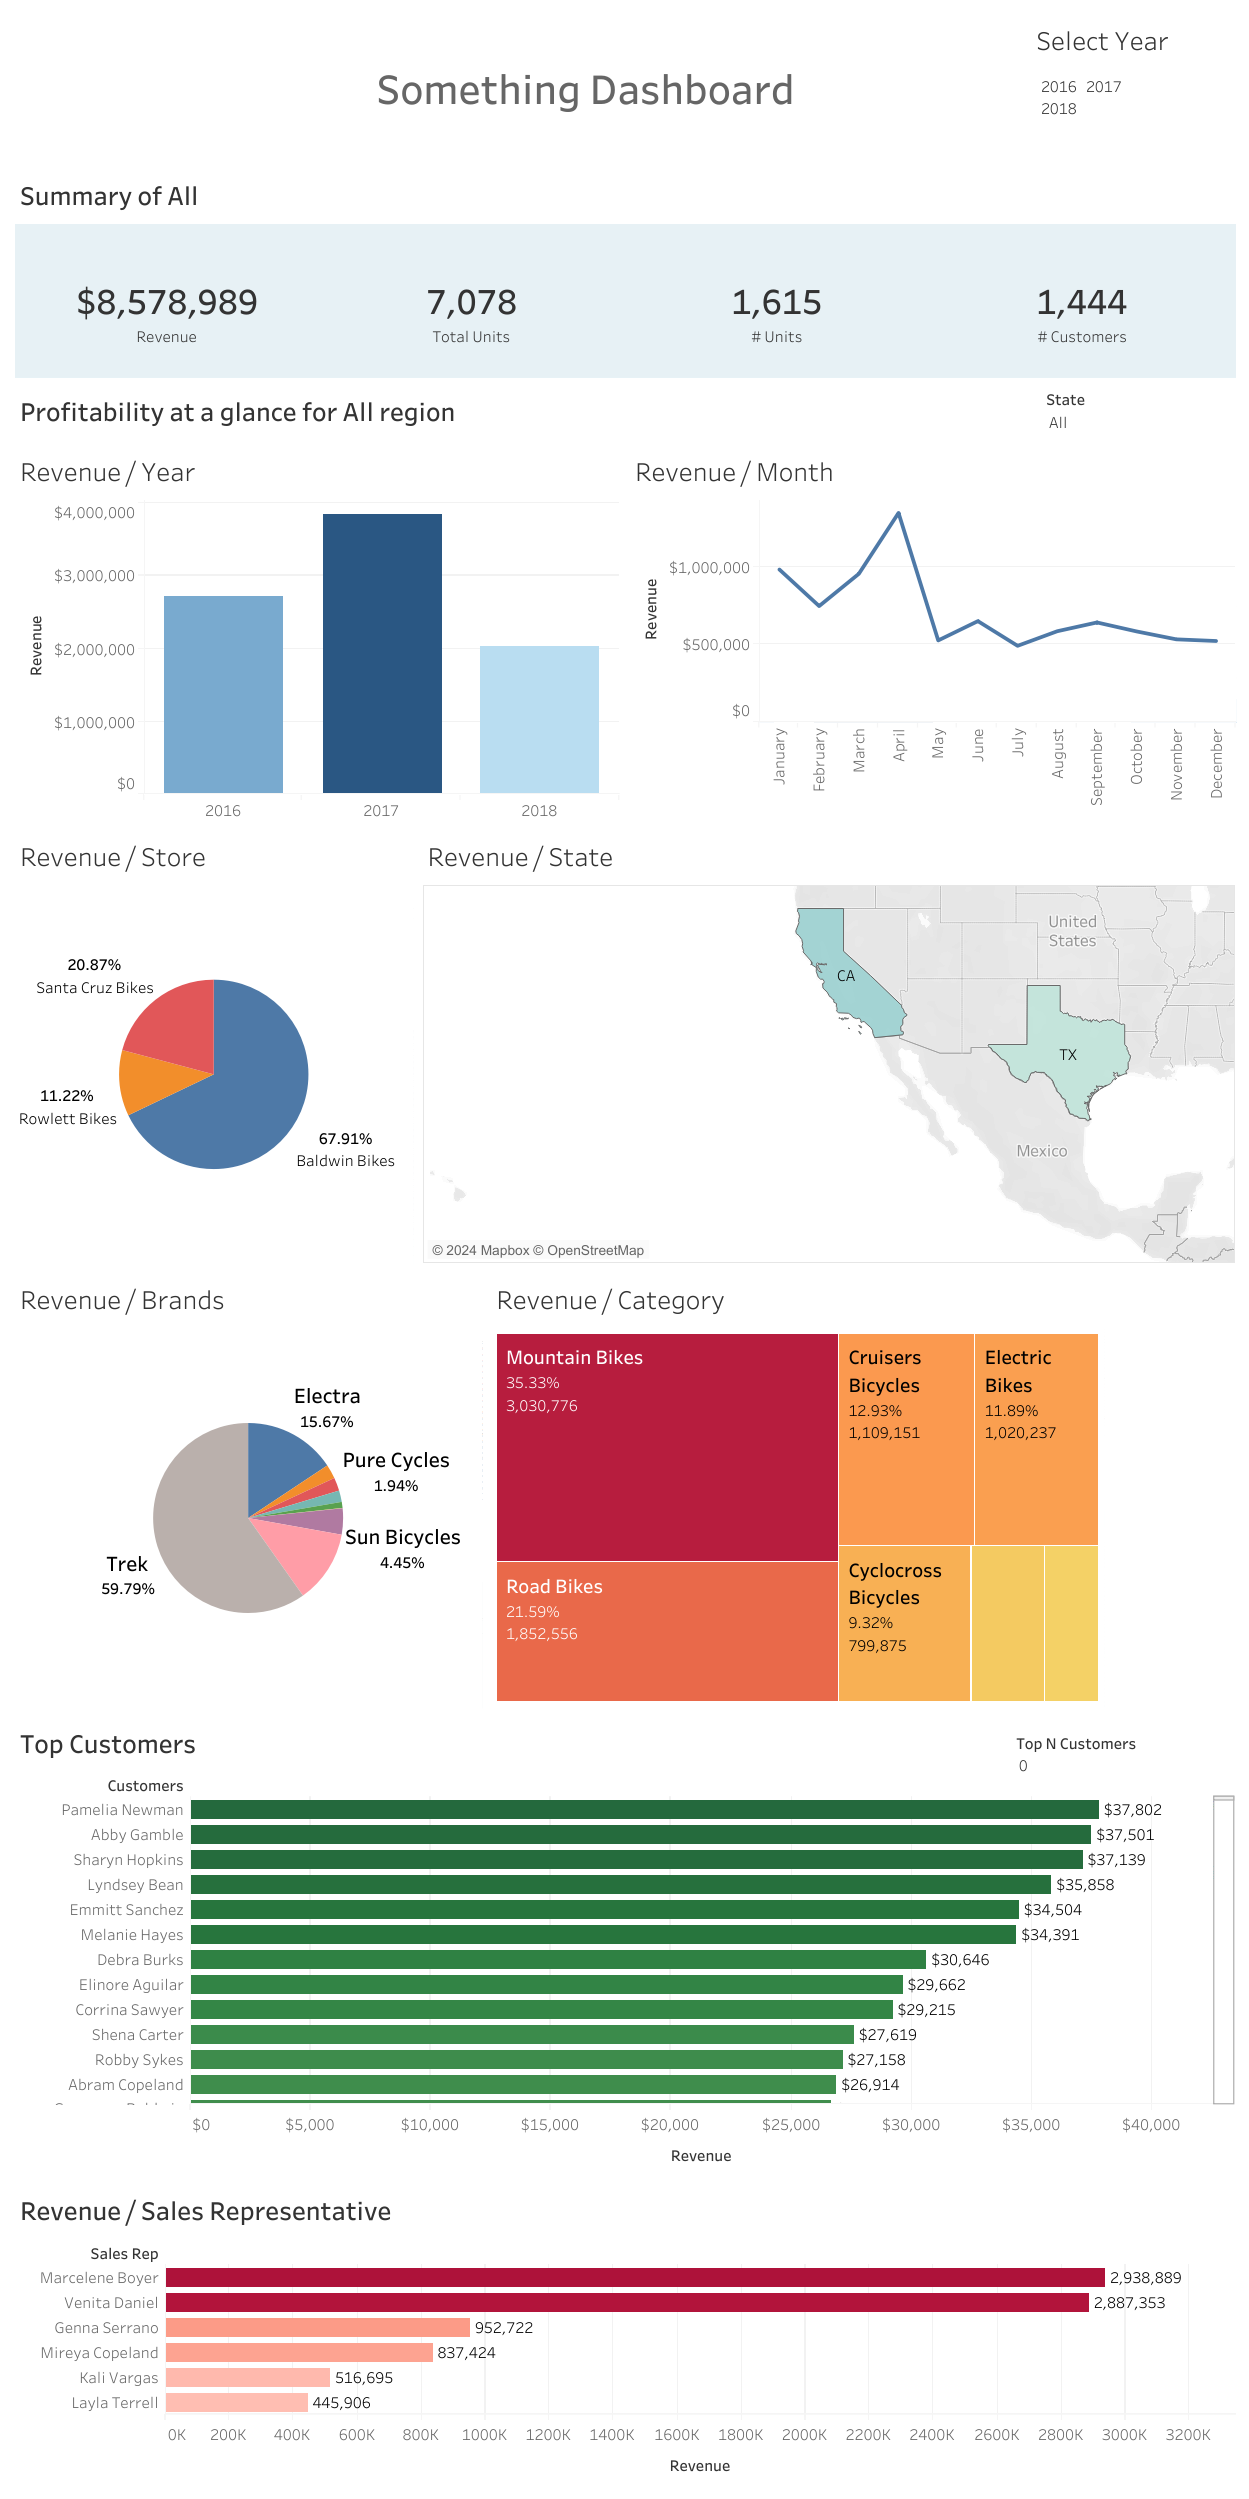

This screenshot's page, from the dashboard's own definition file:
{"tool":"tableau","page":{"name":"Dashboard 1","canvas":[1000,2000],"ordinal":0},"visuals":[{"type":"image","box":[8,8,108,124]},{"type":"text","box":[116,8,705,124]},{"type":"worksheet","title":"Year","mark":"Automatic","box":[821,8,171,124]},{"type":"worksheet","title":"Banner","mark":"Automatic","box":[8,132,984,173]},{"type":"worksheet","title":"Title","mark":"Automatic","box":[8,305,825,48]},{"type":"filter","title":"Revenue / State","param":"[federated.0t6oqtp0fimy9514le0gv0iwdo3l].[none:state:nk]","box":[833,305,159,48]},{"type":"worksheet","title":"Revenue / Year","mark":"Bar","rows":["revenue"],"cols":["order_date"],"box":[8,353,492,308]},{"type":"worksheet","title":"Revenue / Month","mark":"Automatic","rows":["revenue"],"cols":["order_date"],"box":[500,353,491.9,308]},{"type":"worksheet","title":"Revenue / Store","mark":"Pie","box":[8,661,326,354]},{"type":"worksheet","title":"Revenue / State","mark":"Automatic","box":[334,661,658,354]},{"type":"worksheet","title":"Revenue / Brands","mark":"Pie","box":[8,1015,381,355]},{"type":"worksheet","title":"Revenue / Category","mark":"Automatic","box":[389,1015,603,355]},{"type":"worksheet","title":"Top Customers","mark":"Automatic","rows":["customers"],"cols":["revenue"],"box":[8,1370,984,374]},{"type":"parameter","param":"[Parameters].[Customers Parameter]","box":[813,1384,160,45]},{"type":"worksheet","title":"Revenue / Sales Representative","mark":"Automatic","rows":["sales_rep"],"cols":["revenue"],"box":[8,1744,984,248]}]}

Visuals, with their boxes in screenshot pixels (x1, y1, x2, y2), scaled from the page's 1000x2000 canvas onto the 1249x2499 screenshot:
image: 10:10:145:165
text: 145:10:1025:165
"Year" worksheet: 1025:10:1239:165
"Banner" worksheet: 10:165:1239:381
"Title" worksheet: 10:381:1040:441
"Revenue / State" filter: 1040:381:1239:441
"Revenue / Year" worksheet (Bar marks): 10:441:624:826
"Revenue / Month" worksheet: 624:441:1239:826
"Revenue / Store" worksheet (Pie marks): 10:826:417:1268
"Revenue / State" worksheet: 417:826:1239:1268
"Revenue / Brands" worksheet (Pie marks): 10:1268:486:1712
"Revenue / Category" worksheet: 486:1268:1239:1712
"Top Customers" worksheet: 10:1712:1239:2179
parameter: 1015:1729:1215:1786
"Revenue / Sales Representative" worksheet: 10:2179:1239:2489
